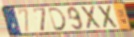7: (32, 7, 48, 33), (17, 8, 30, 34)
9: (67, 6, 84, 31)
D: (47, 7, 68, 32)
X: (80, 5, 103, 31), (96, 5, 119, 31)
